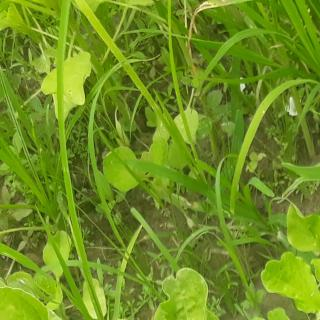virus_keriting: (150, 266, 219, 320), (260, 250, 316, 313), (223, 303, 295, 320)
